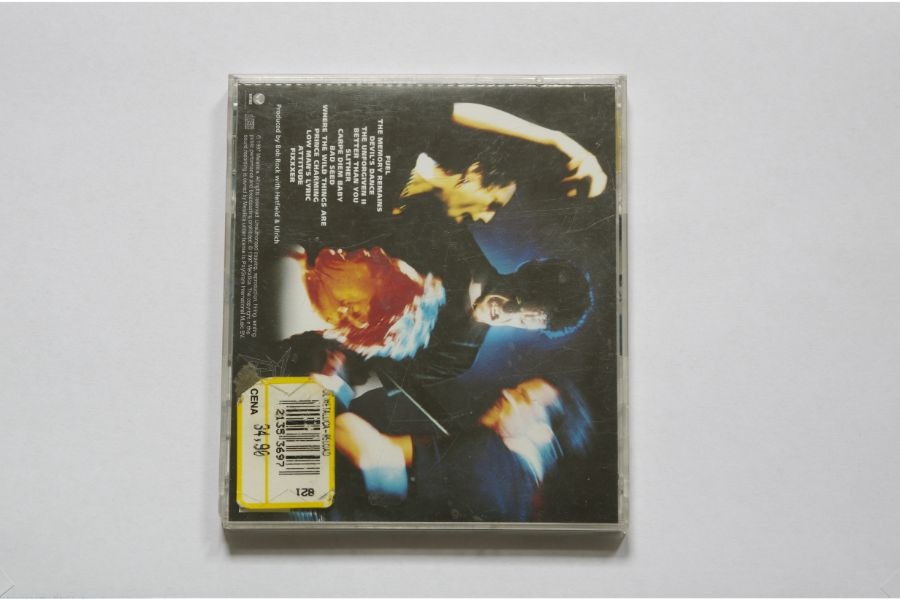album: (218, 73, 631, 534)
